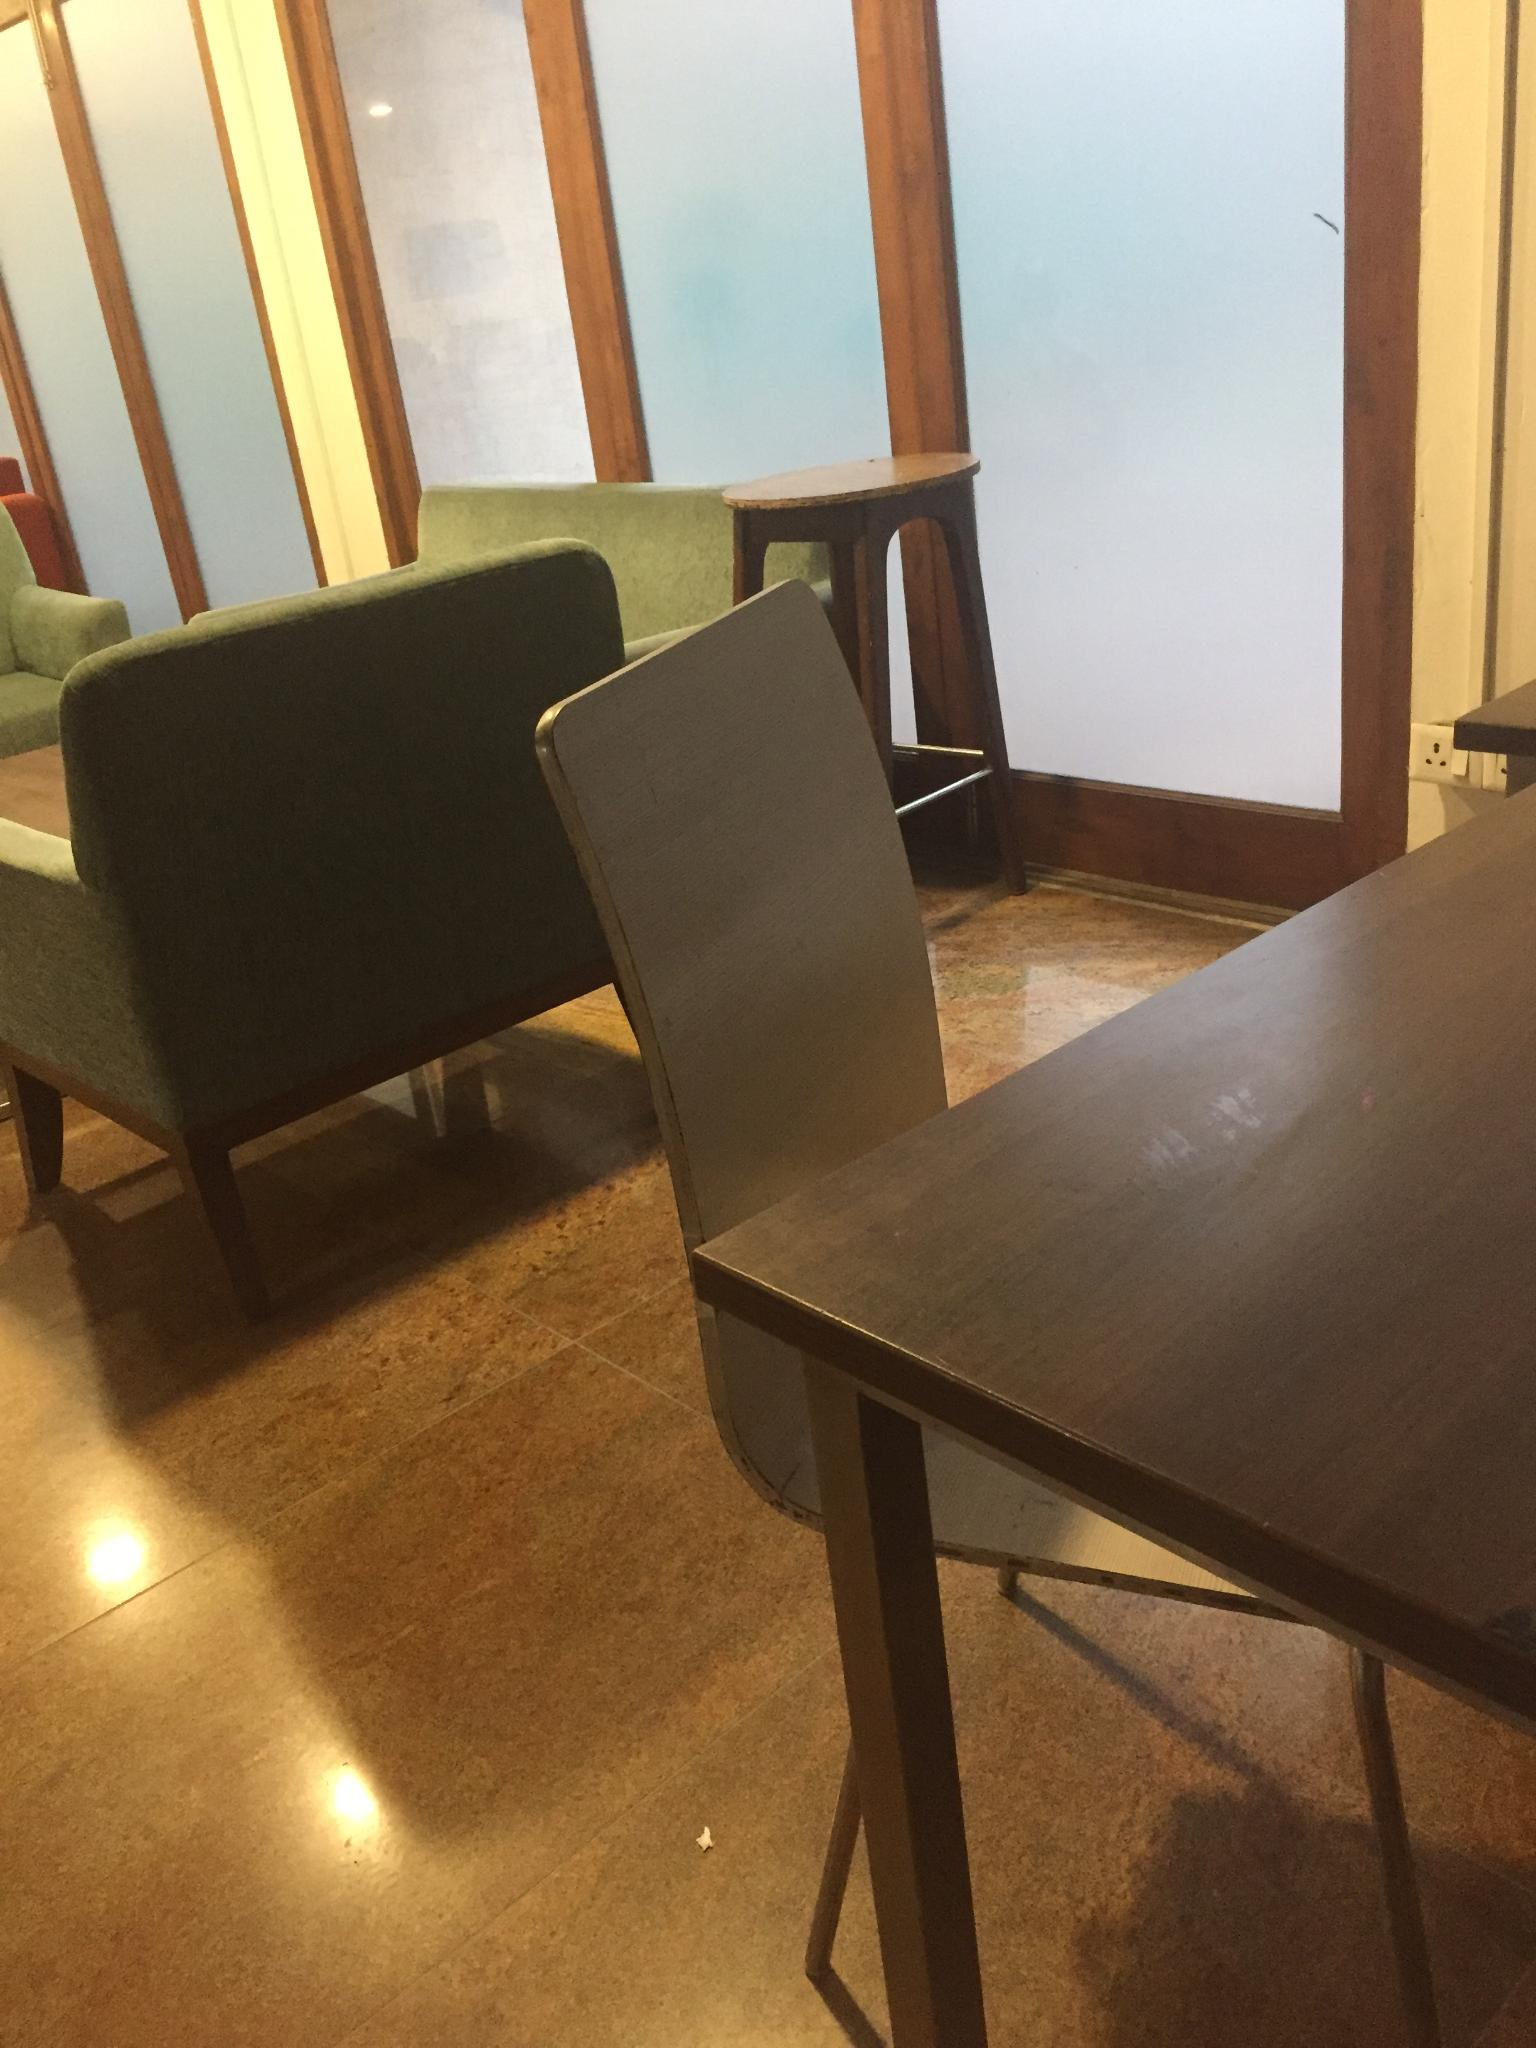chair: (529, 574, 1449, 2045)
